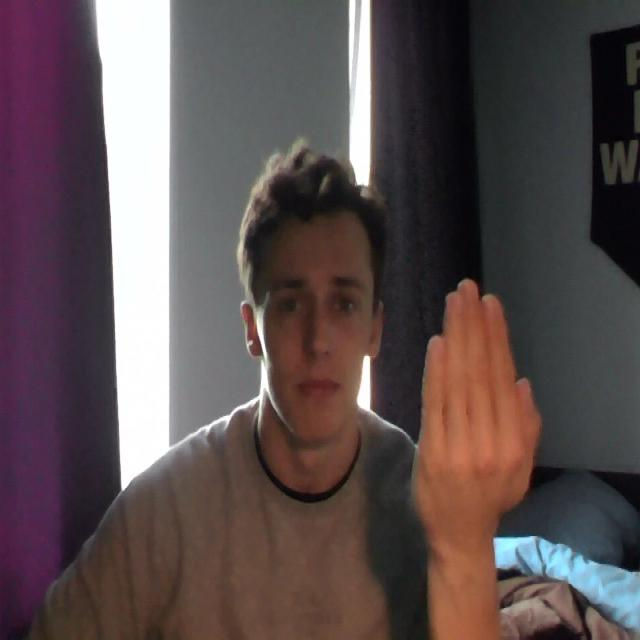forward: (392, 272, 549, 542)
